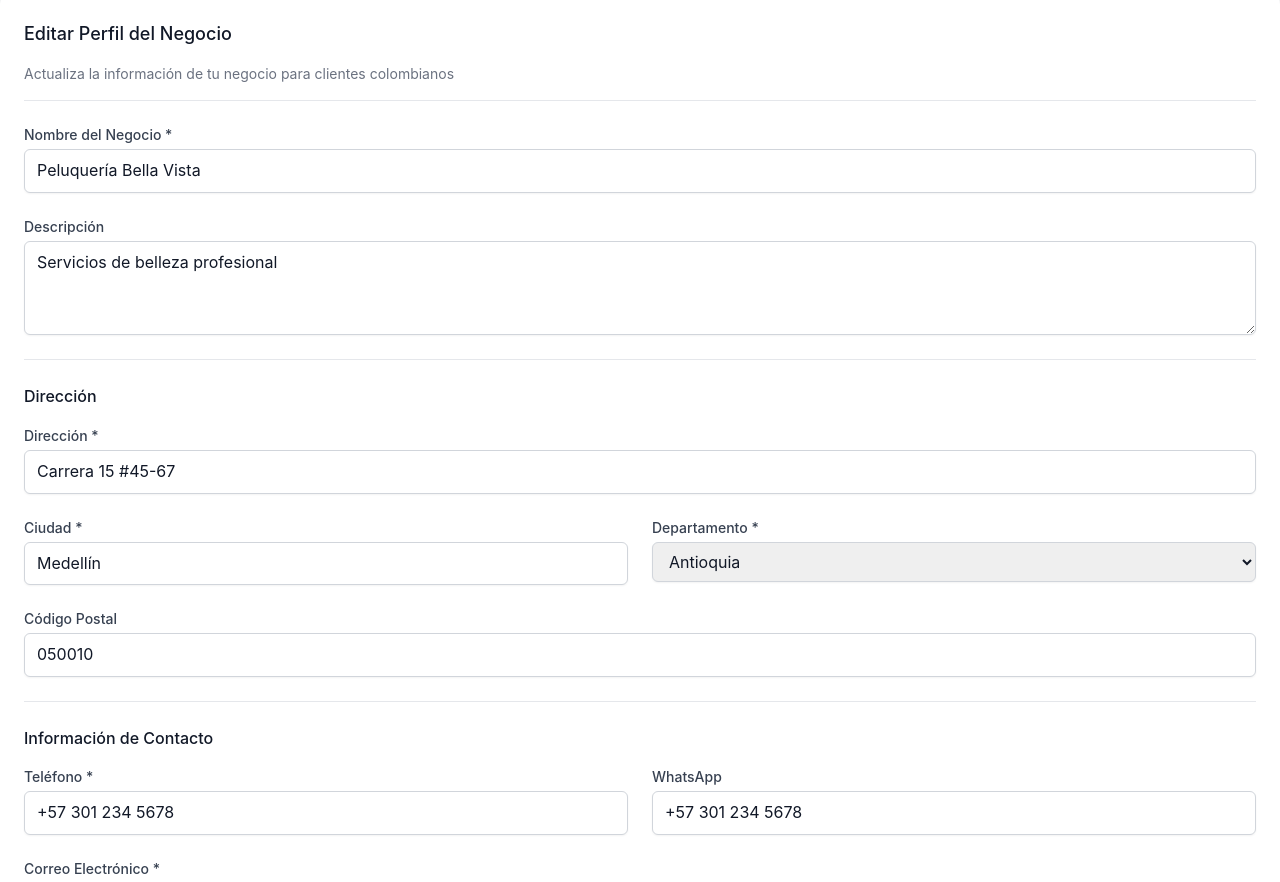
BusinessProfileEditForm › validates all required address fields
The width and height of the screenshot is (1280, 882).
Clear the field showing "Carrera 15 #45-67": [640, 472] box [24, 450, 1256, 494]
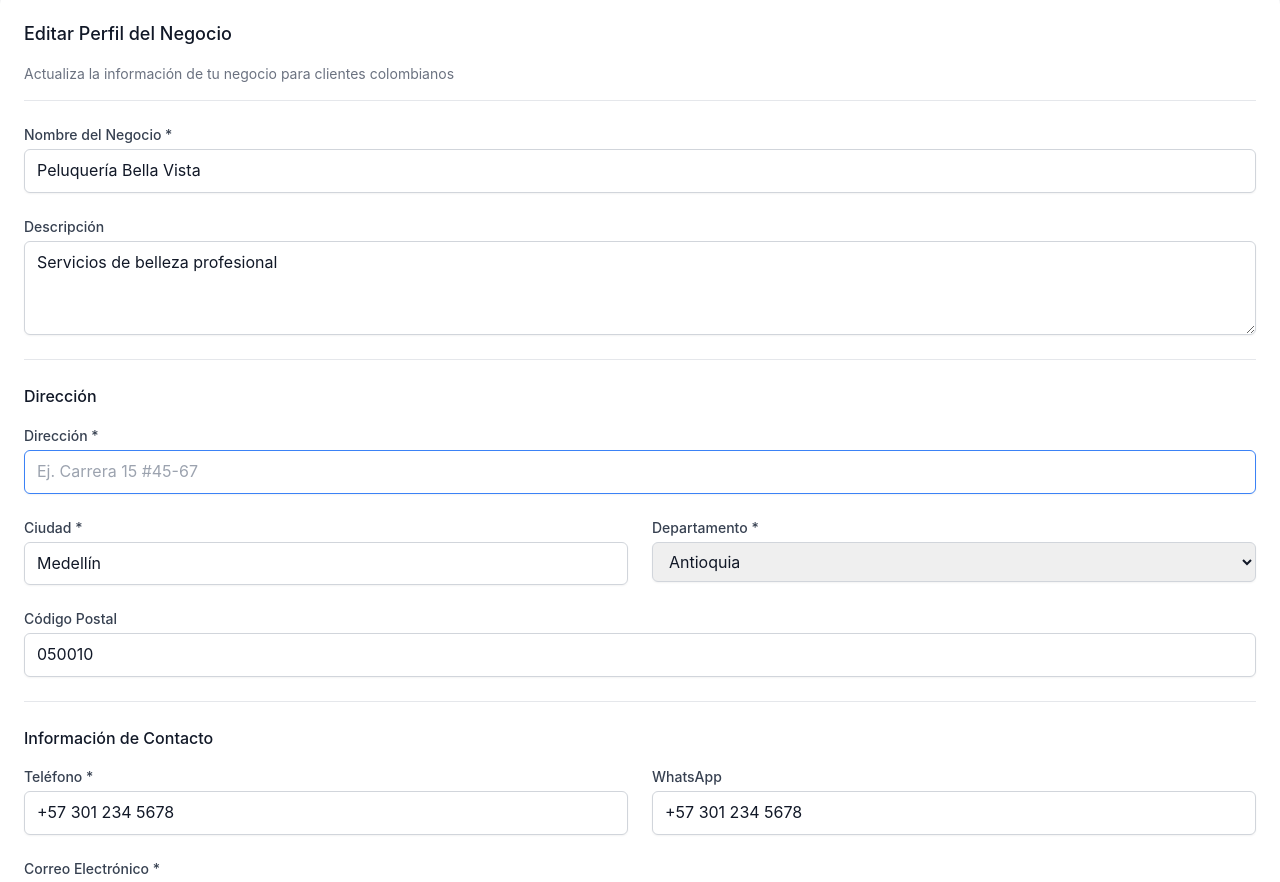
Clear the field showing "Medellín": [326, 563] box [24, 542, 628, 585]
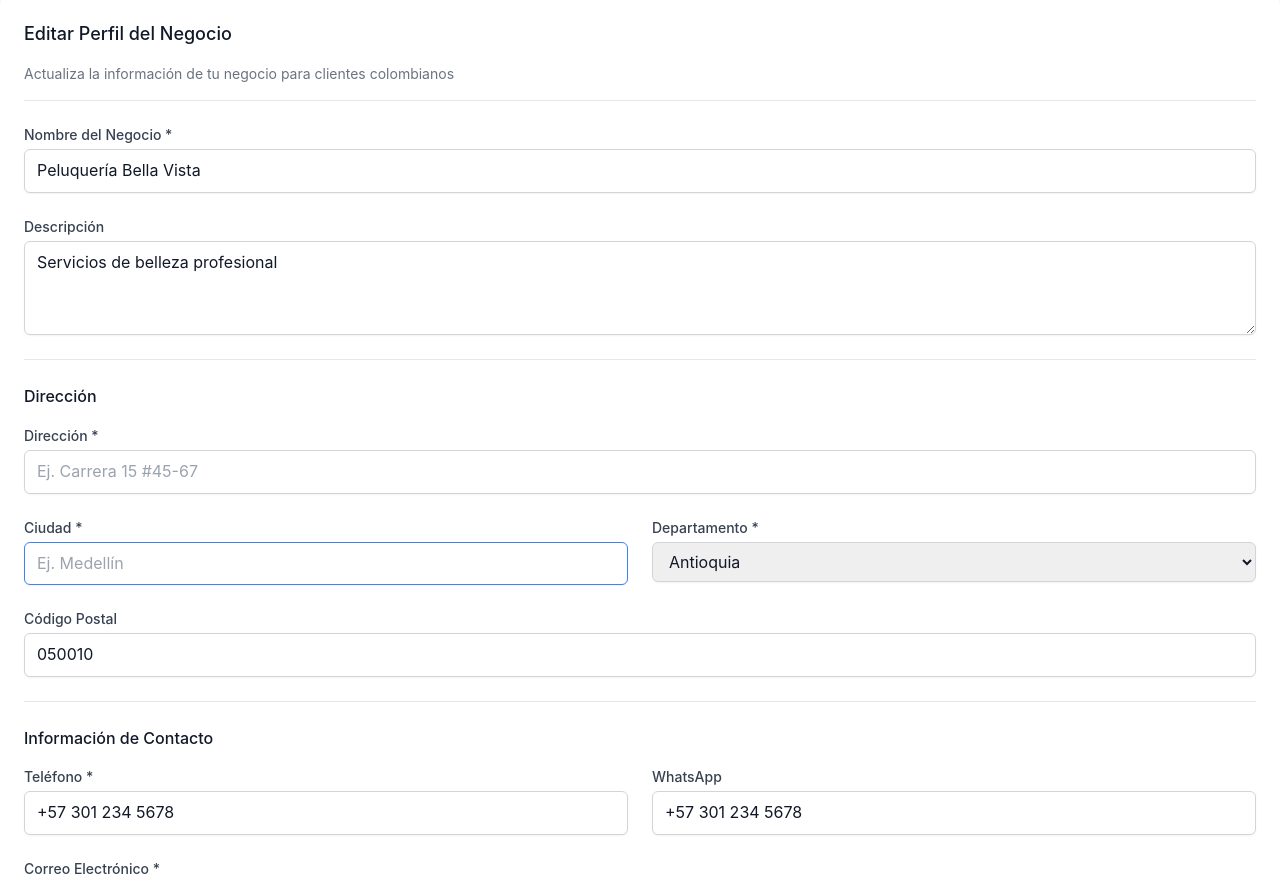
Select "Selecciona un departamento" in the dropdown showing "Antioquia": [954, 562] box [652, 542, 1256, 582]
(page scrolled)
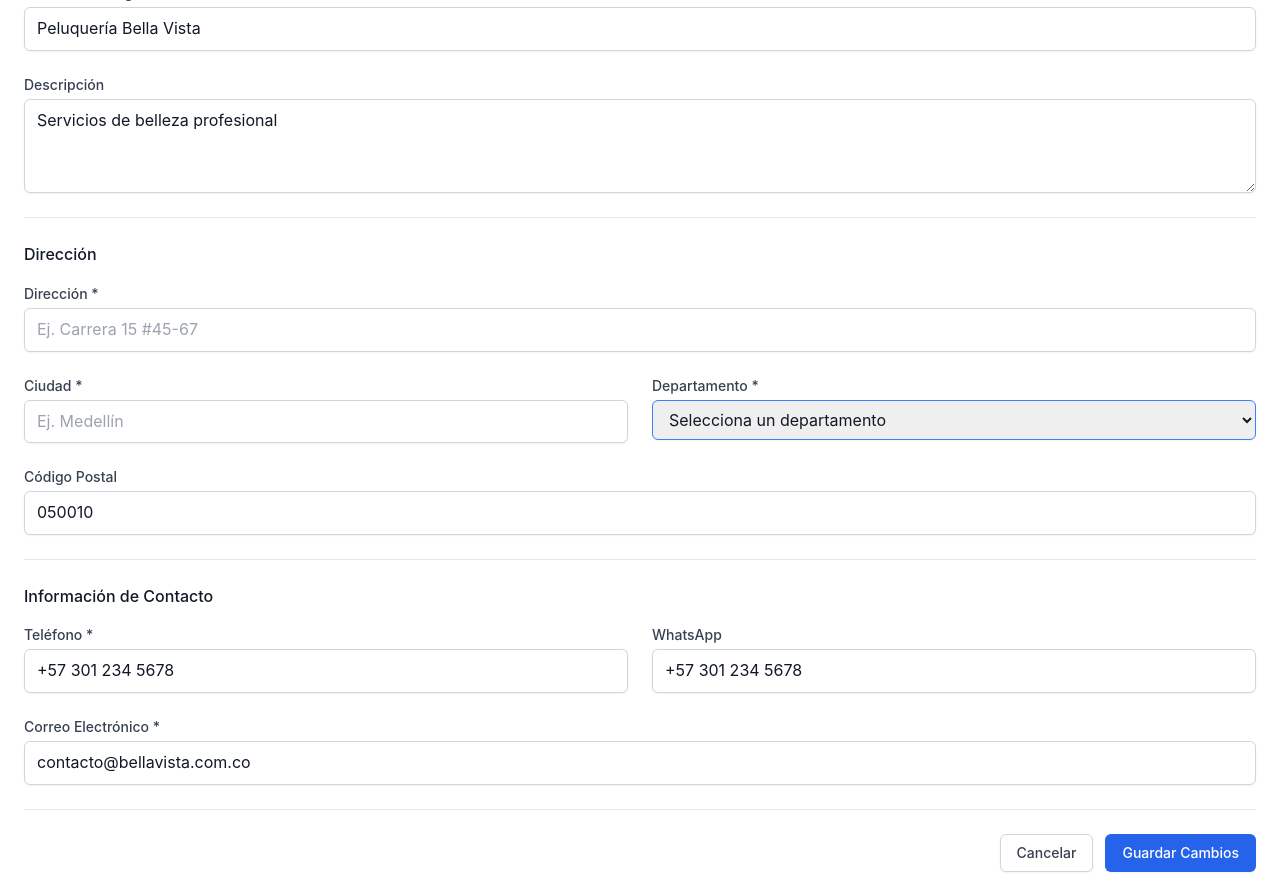
Click the button "Guardar Cambios": [1181, 852] box [1105, 834, 1256, 872]
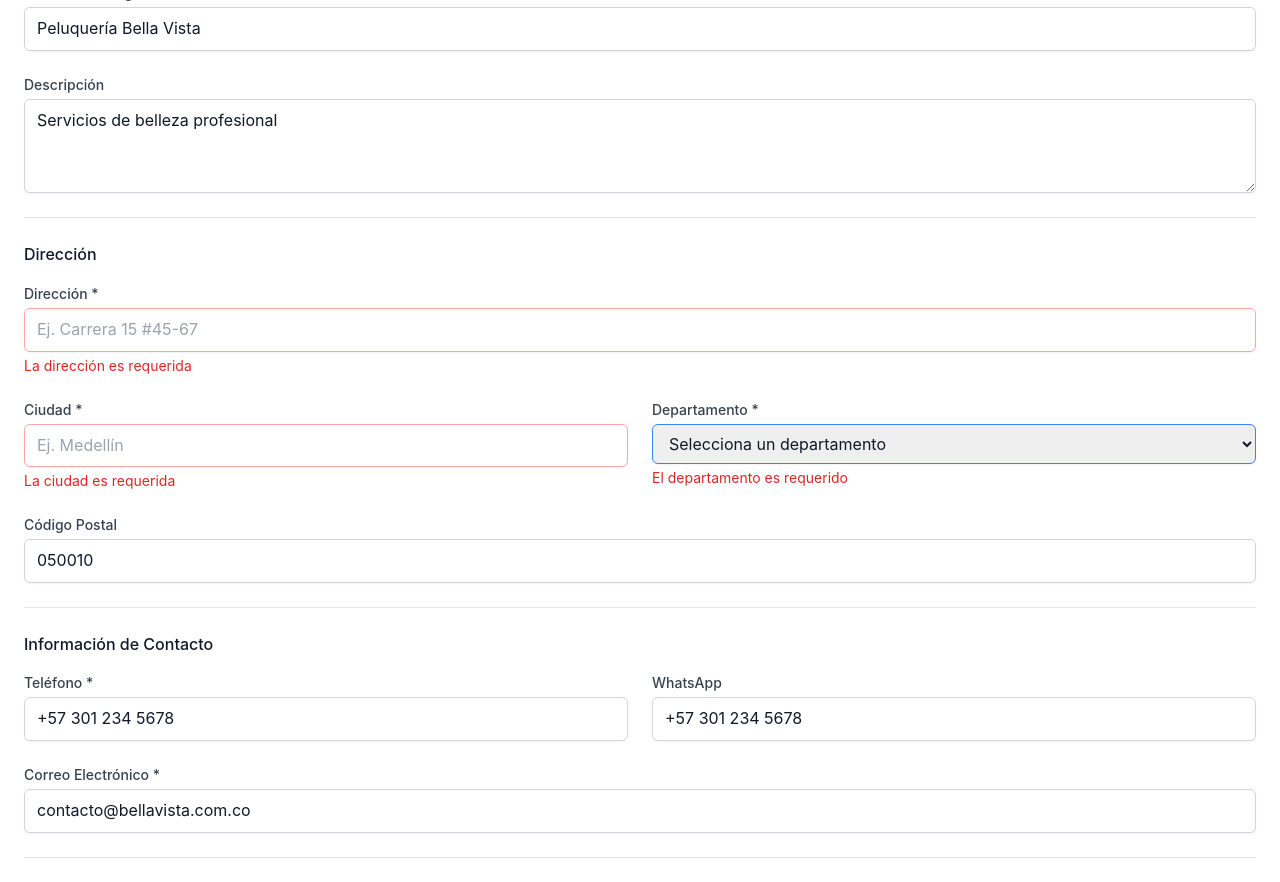
Expected: the text "La dirección es requerida" is shown, [24, 357, 192, 374]
Expected: the text "La ciudad es requerida" is shown, [24, 472, 175, 489]
Expected: the text "El departamento es requerido" is shown, [652, 469, 848, 486]
